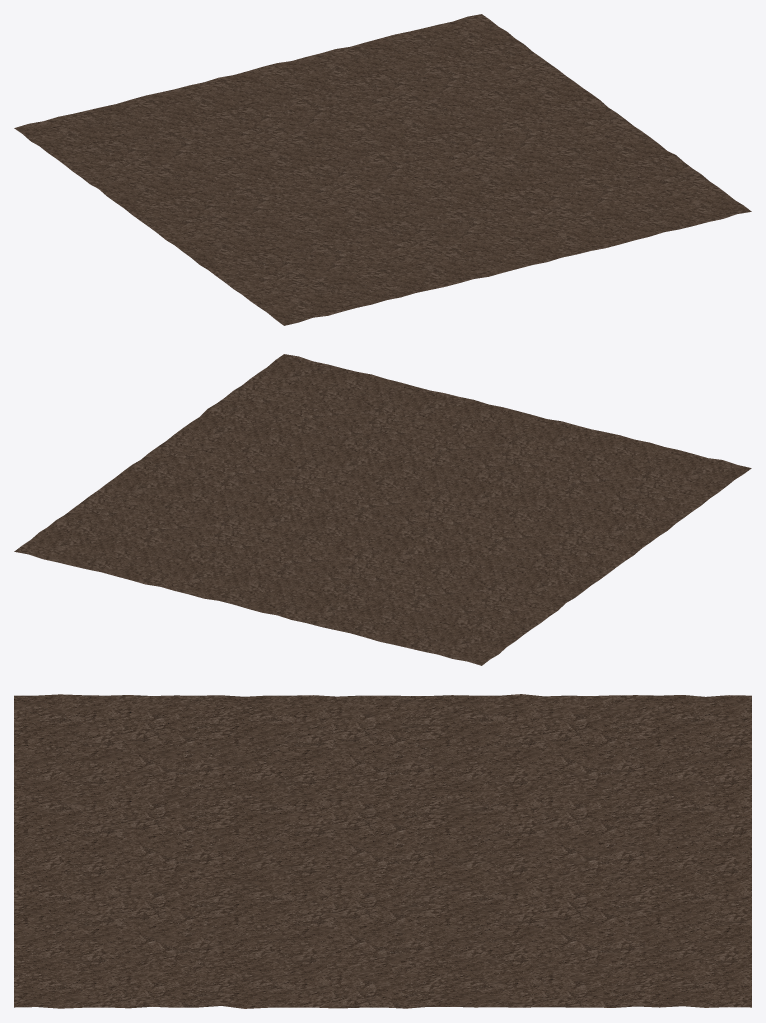
Rendered from ground.gltf.
The picture shows the model from 3 angles, top to bottom: view 1: azimuth 30°, elevation 25°; view 2: azimuth 150°, elevation 25°; view 3: azimuth 270°, elevation 25°; orthographic projection. The views are drawn at different scales.
Parts seen in each view (by area): view 1: Plane.001; view 2: Plane.001; view 3: Plane.001.
Part boxes in pixels (x1,y1,x2,y2): Plane.001: (14, 14, 751, 325); Plane.001: (14, 354, 751, 665); Plane.001: (14, 694, 751, 1008).
Bounding box in the file's own units: 17.98 × 0.1185 × 17.98.
1 material, 1 textured.
